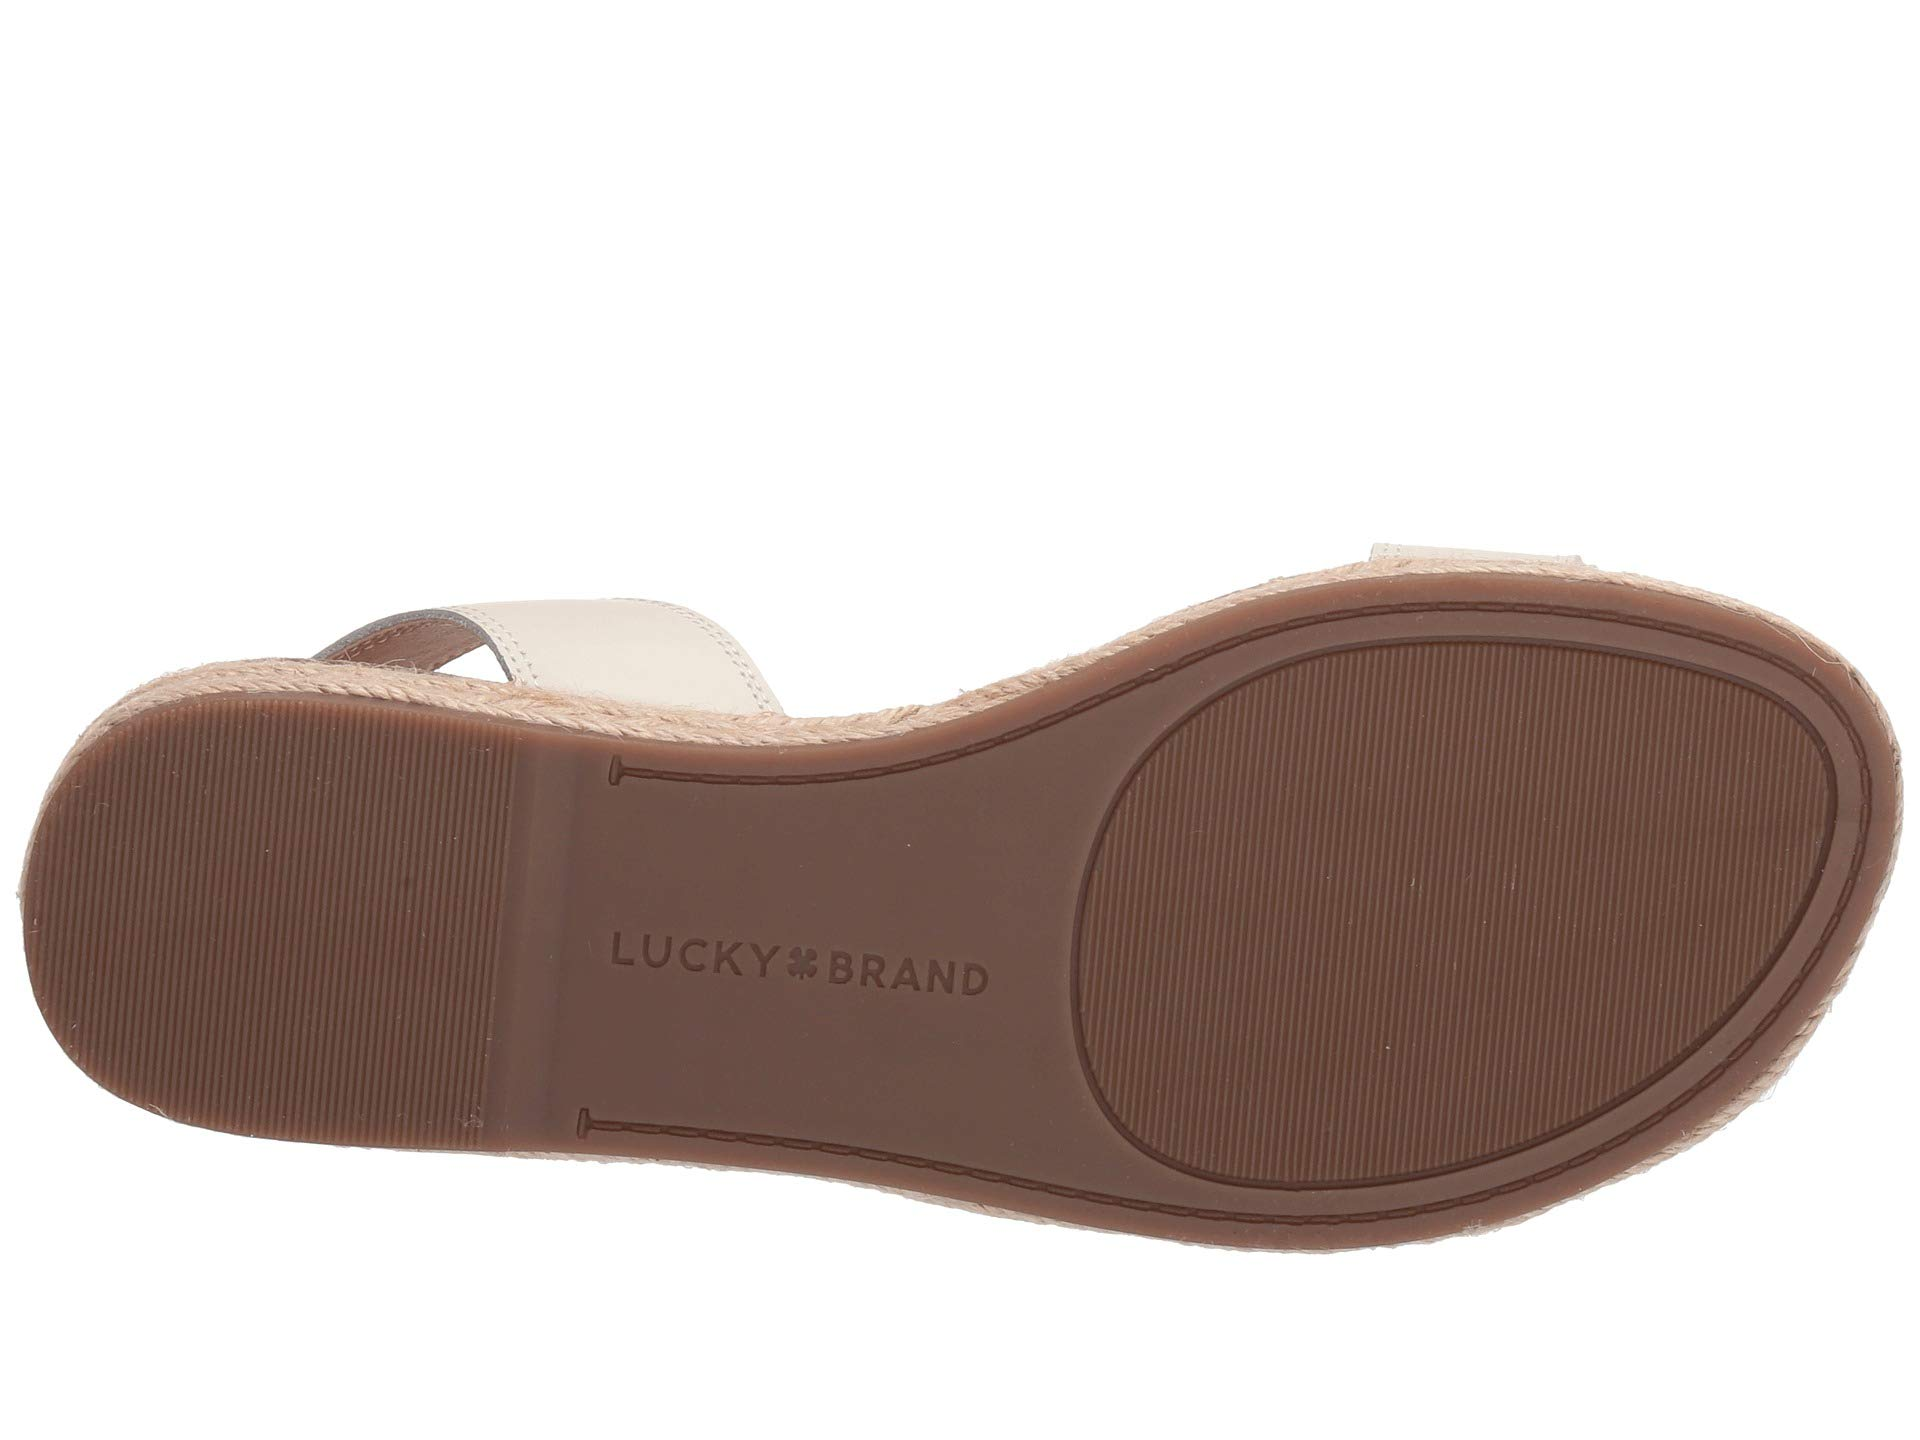line: (1290, 703, 1621, 1010), (259, 836, 420, 988)
star: (588, 889, 1020, 1069)
text: (588, 889, 1020, 1069)
